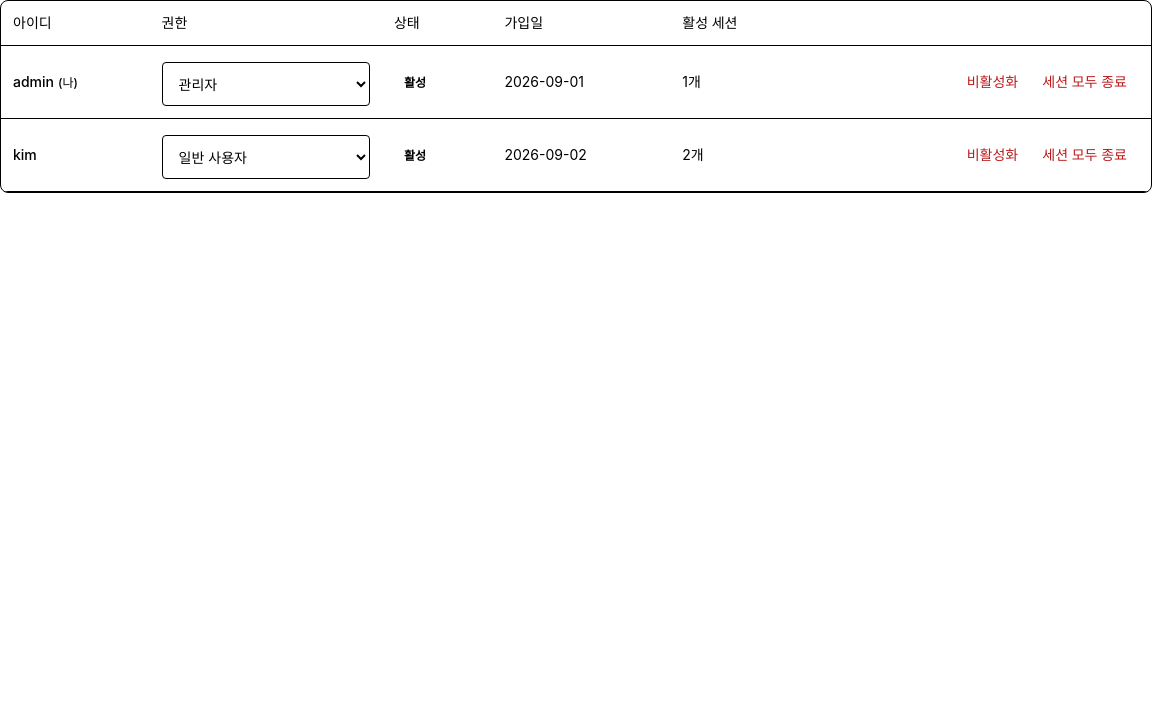
Test: UsersTable › 세션 모두 종료는 종료 개수를 알리고, 세션 수는 세션 화면 필터로 링크한다
The width and height of the screenshot is (1152, 720).
Click the button "세션 모두 종료" in the row of "kim": [1085, 155] box 1030,133 -> 1139,177
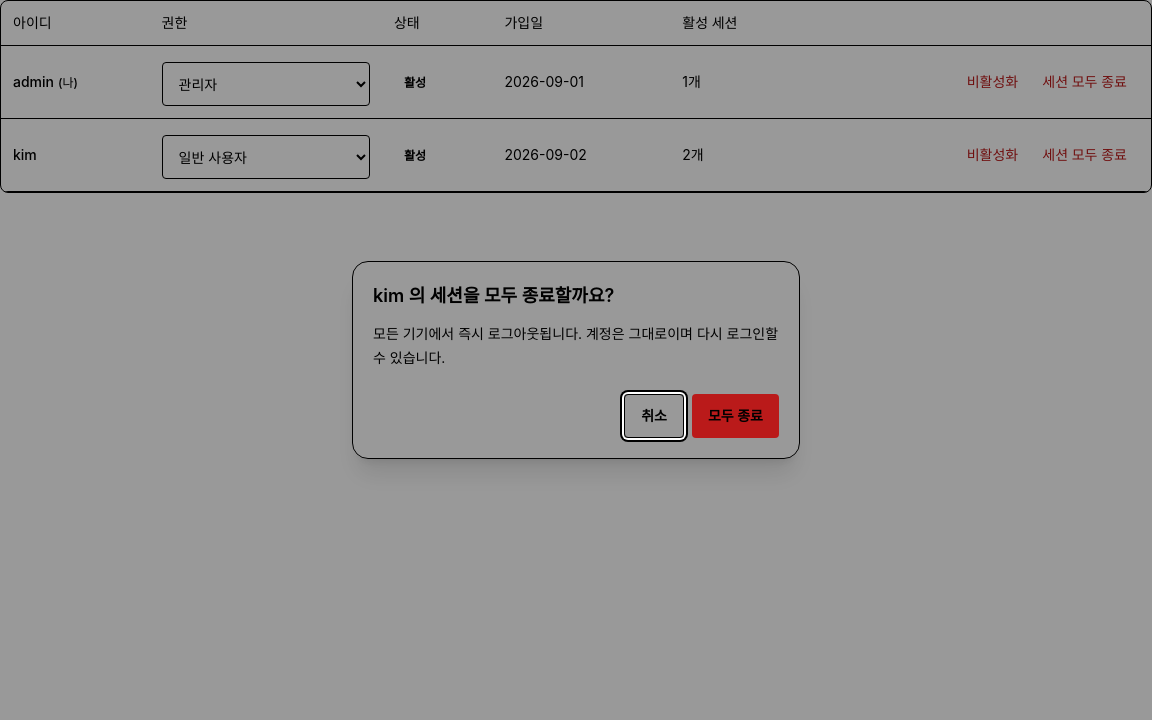
Click the button "모두 종료": [735, 416] box 692,394 -> 779,438
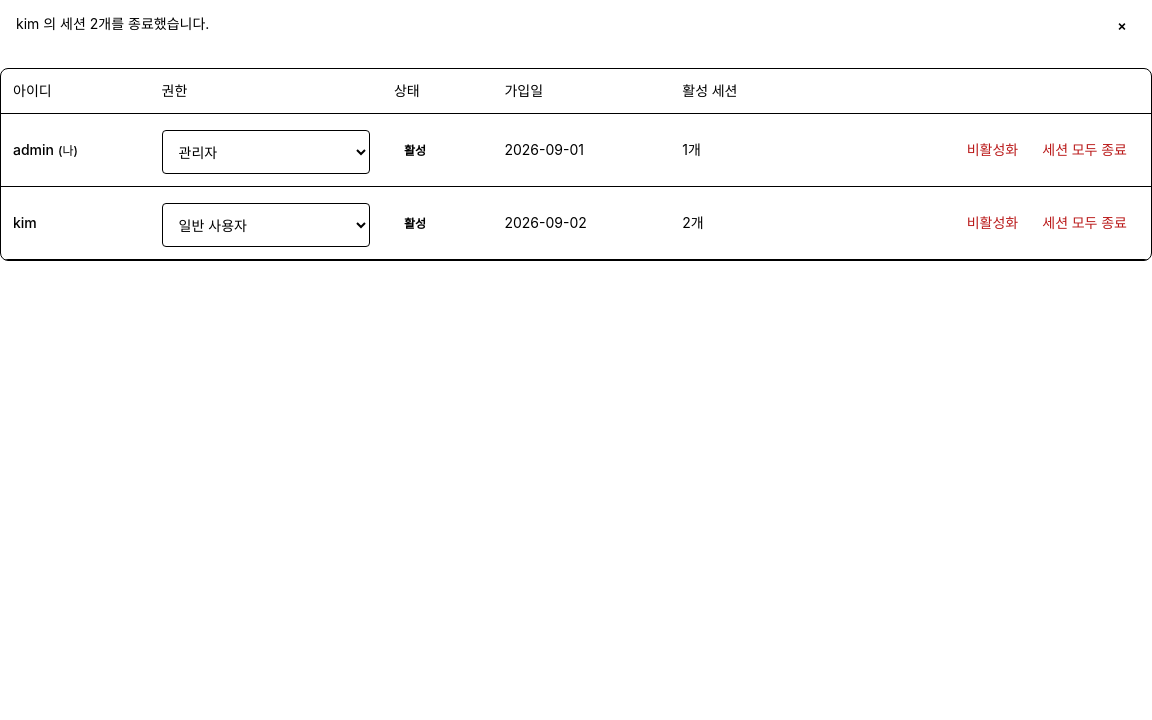
Expected: the text "kim 의 세션 2개를 종료했습니다." is shown, 16,12 -> 209,34
